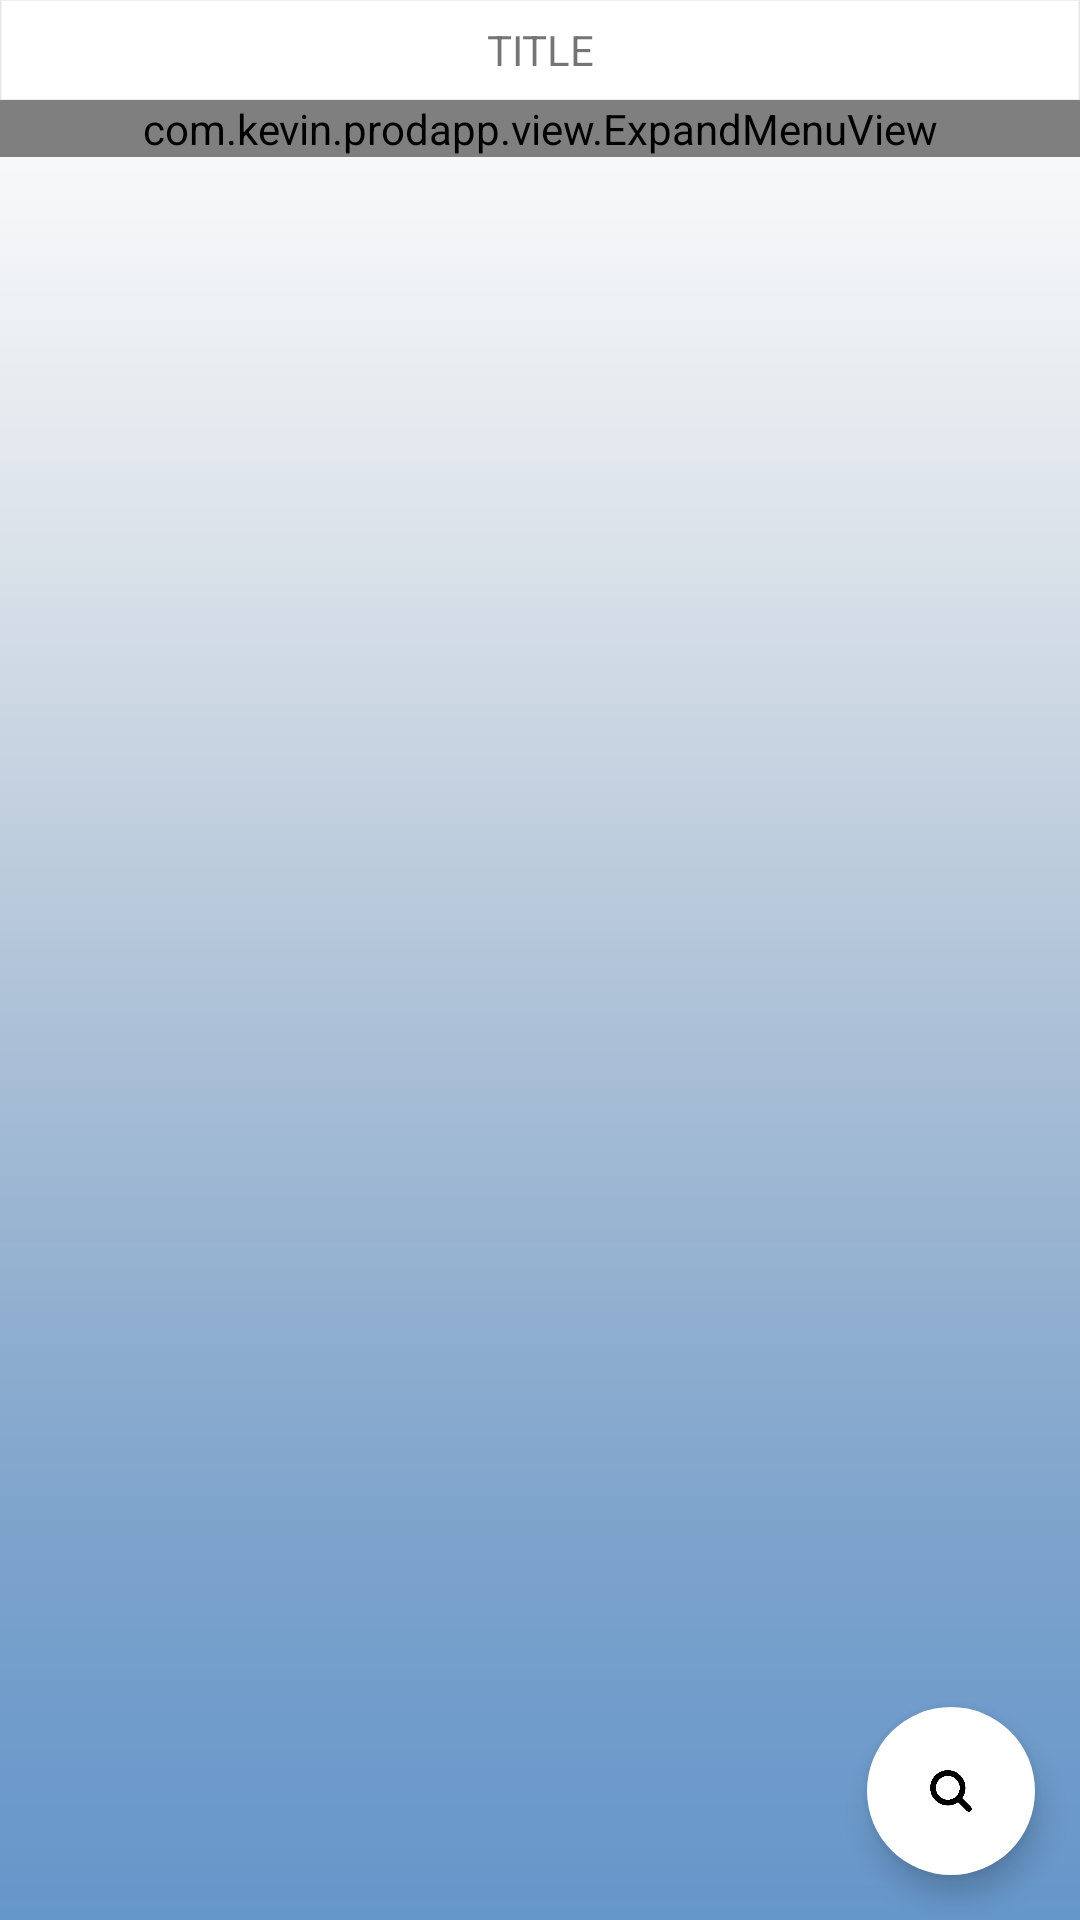

Screen size 1080×1920. Icon name, then its center in pixels as (x,y):
serch: (951,1791)
